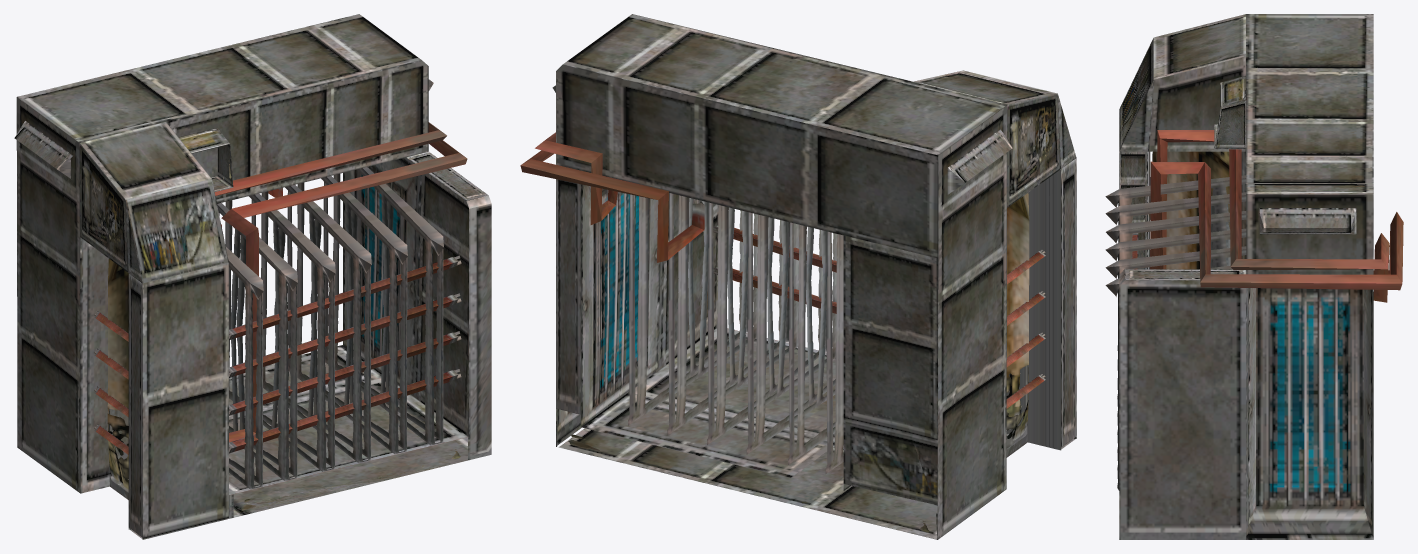
File: ship_component_capacitor_s02_l1.fbx
3 renders of one model, left to right at view 1: azimuth 30°, elevation 25°; view 2: azimuth 150°, elevation 25°; view 3: azimuth 270°, elevation 25°, orthographic. The views are drawn at different scales.
Parts seen in each view (by area): view 1: mesh_node; view 2: mesh_node; view 3: mesh_node.
Boxes of the visible parts, bbox=[...] form: mesh_node: bbox=[14, 14, 491, 539]; mesh_node: bbox=[520, 14, 1076, 539]; mesh_node: bbox=[1105, 14, 1403, 539].
Bounding box in the file's own units: 1.05 × 0.9302 × 0.7092.
